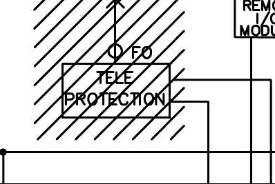tele_protection: (59, 61, 172, 121)
